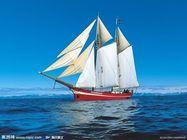fanchuan: (35, 13, 138, 102)
